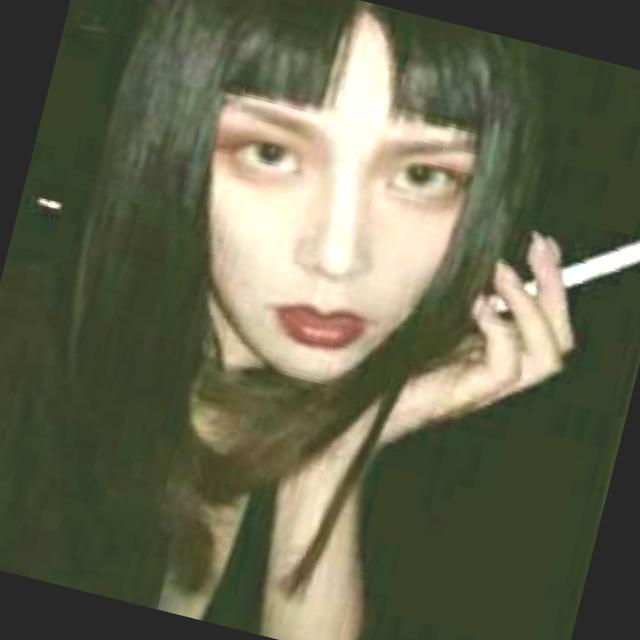smoke: (470, 190, 640, 363)
